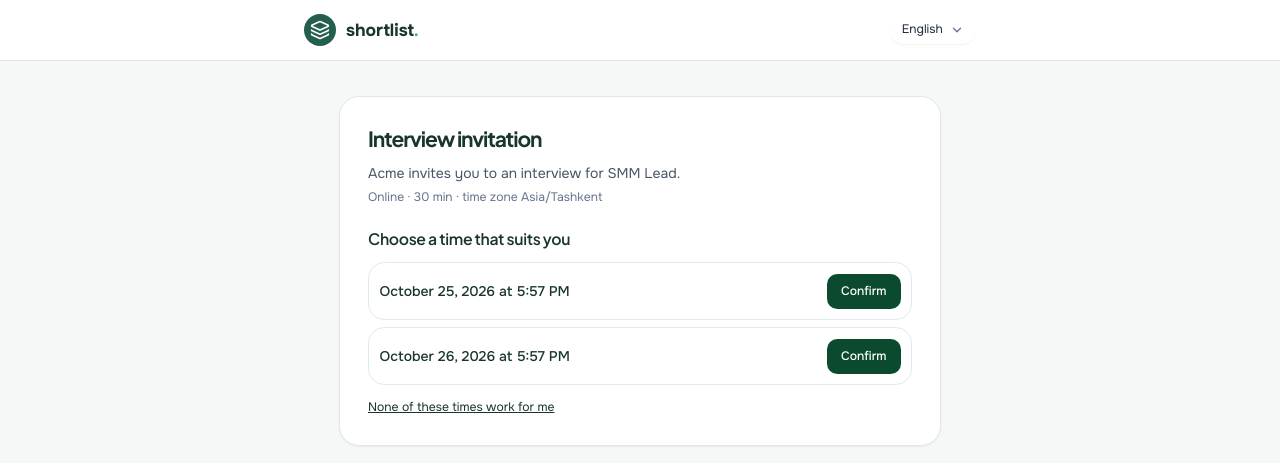
Test: candidate interview page › lists the times and confirms the one the candidate picks
This screenshot has width=1280, height=463.
Expected: the text "Acme invites you to an interview for SMM Lead." is shown, x1=368 y1=164 x2=680 y2=182
Click the button "Confirm" in the row of "October 26, 2026 at 5:57 PM".
click(864, 356)  # box x1=827 y1=339 x2=900 y2=374
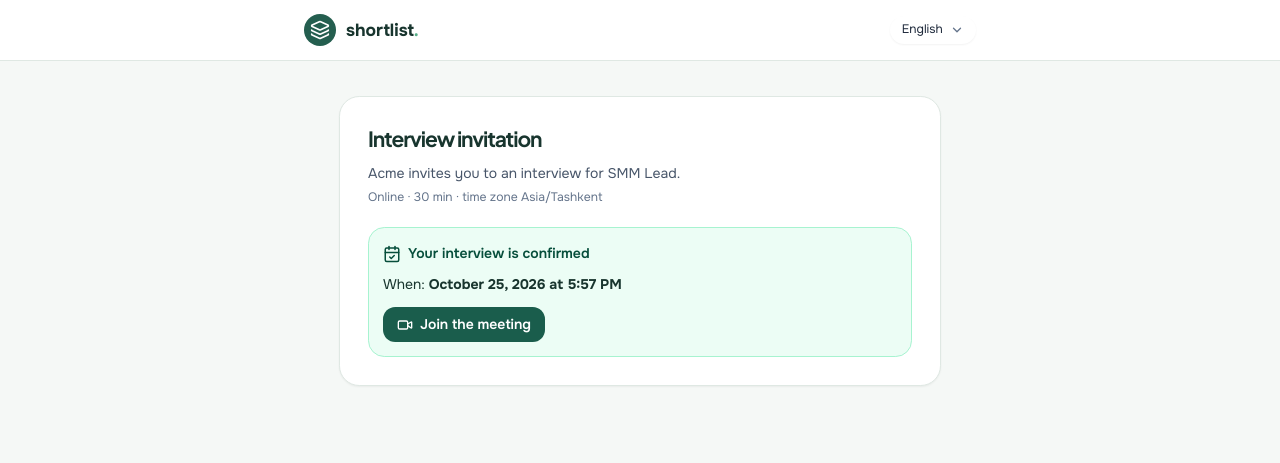
Expected: the text "Your interview is confirmed" is shown, x1=383 y1=244 x2=590 y2=263
